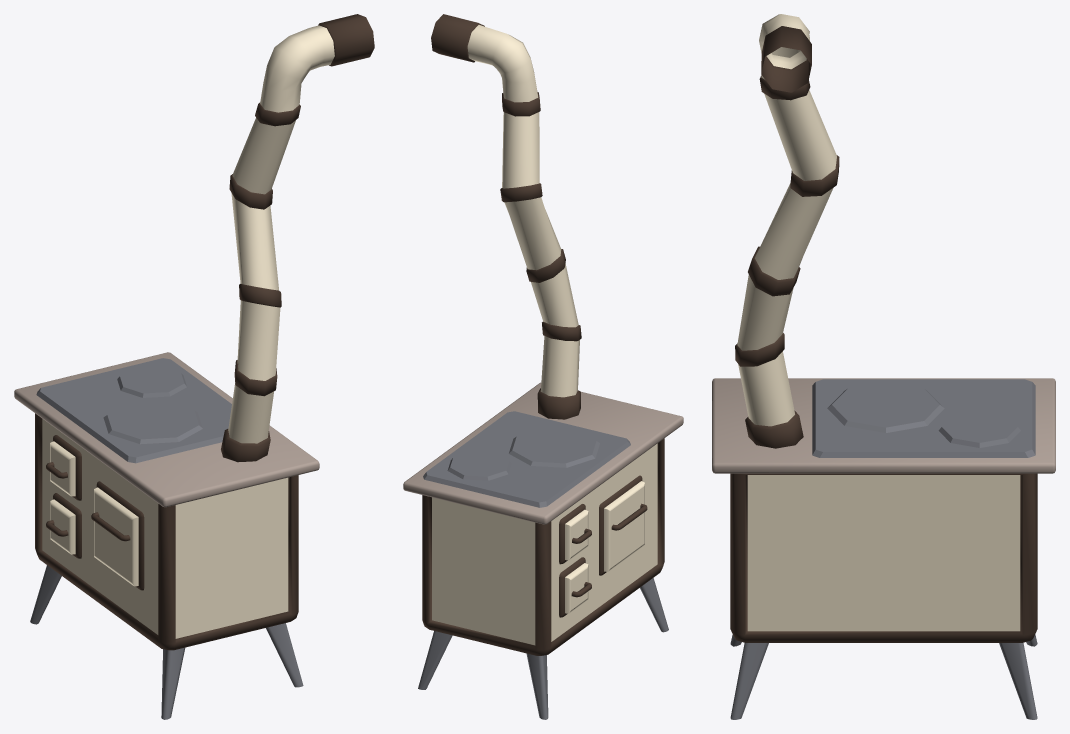
Rendered from oven_FIX.fbx.
3 views of the same model, side by side, from view 1: azimuth 30°, elevation 25°; view 2: azimuth 150°, elevation 25°; view 3: azimuth 270°, elevation 25° (orthographic). The views are drawn at different scales.
Visible parts, largest first — view 1: Cube, Circle, Cube.002, Plane, Cube.003, Circle.005, Cube.005, Circle.004, Cube.001, Cube.004; view 2: Cube, Circle, Cube.002, Plane, Cube.003, Circle.005, Cube.005, Circle.004, Cube.004, Cube.001; view 3: Cube, Circle, Cube.002, Plane, Circle.005, Cube.005, Circle.004.
Part boxes in pixels (box(x1,y1,x2,y2)): Cube: box(35, 413, 298, 650); Circle: box(221, 14, 374, 462); Cube.002: box(14, 352, 319, 507); Plane: box(36, 358, 231, 463); Cube.003: box(94, 481, 144, 590); Circle.005: box(103, 400, 202, 444); Cube.005: box(30, 565, 303, 719); Circle.004: box(117, 366, 186, 397); Cube.001: box(50, 435, 81, 500); Cube.004: box(50, 493, 81, 558); Cube: box(422, 438, 664, 655); Circle: box(431, 14, 581, 419); Cube.002: box(403, 382, 683, 524); Plane: box(423, 411, 630, 507); Cube.003: box(599, 475, 644, 575); Circle.005: box(509, 428, 599, 467); Cube.005: box(418, 578, 668, 719); Circle.004: box(447, 451, 511, 480); Cube.004: box(559, 557, 588, 617); Cube.001: box(559, 504, 588, 564); Cube: box(730, 473, 1037, 642); Circle: box(735, 14, 839, 448); Cube.002: box(712, 378, 1055, 473); Plane: box(812, 379, 1035, 457); Circle.005: box(827, 382, 944, 432); Cube.005: box(730, 634, 1037, 719); Circle.004: box(938, 410, 1020, 447).
Size of the model in its own units: 99.43 by 255 by 111.
1 material, 1 textured.
